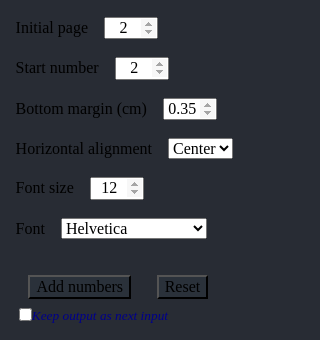
Test TransformPages component › changes options and reset
In the number field labelled "Initial page": (131,28) [104,17,158,39], type "3"
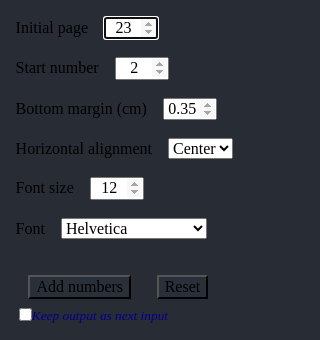
Expected: the number field labelled "Initial page" holds "23", [104,17,158,39]
In the number field labelled "Start number": (142,69) [115,57,169,80], type "3"
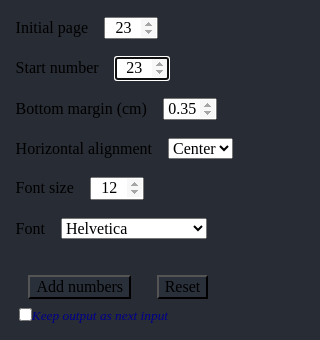
Expected: the number field labelled "Start number" holds "23", [115,57,169,80]
Select "Right" in the dropdown labelled "Horizontal alignment": (200,149) [168,138,233,159]
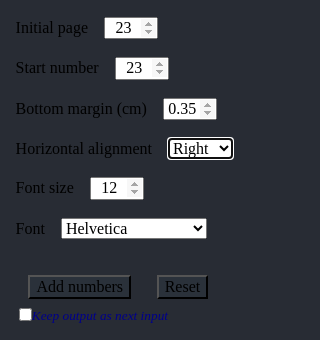
In the number field labelled "Font size": (117,188) [90,177,144,200], type "3"
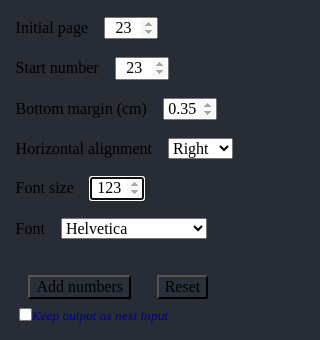
Expected: the number field labelled "Font size" holds "123", [90,177,144,200]
Select "Times New Roman" in the dropdown labelled "Font": (134,228) [61,218,207,239]
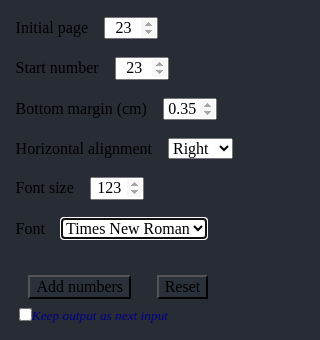
Click Reset button
Click the button "Reset": (182,287) [157,275,208,299]
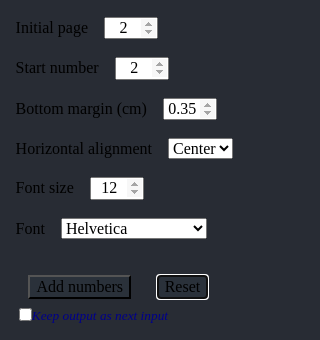
Expected: the number field labelled "Initial page" holds "2", [104,17,158,39]
Expected: the number field labelled "Start number" holds "2", [115,57,169,80]
Expected: the number field labelled "Font size" holds "12", [90,177,144,200]
